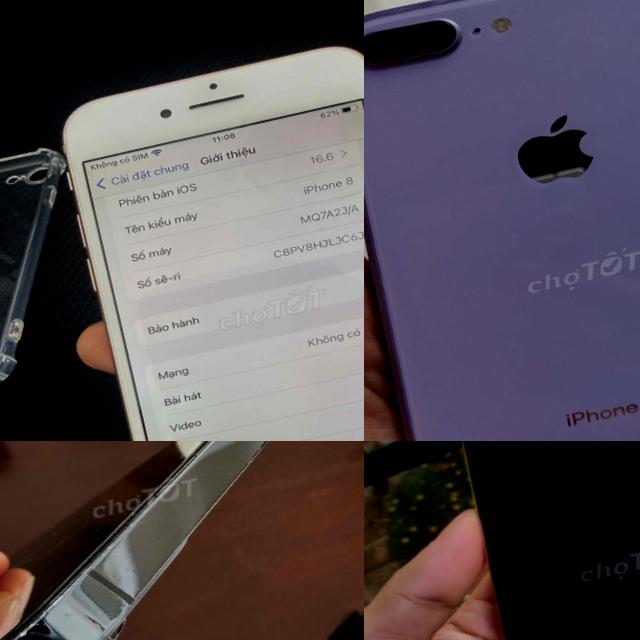scratch: (383, 0, 640, 25)
